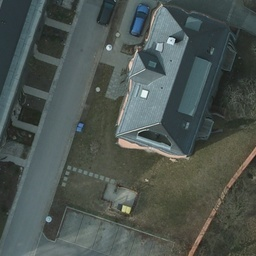car: (131, 6, 147, 35), (98, 0, 112, 26)
